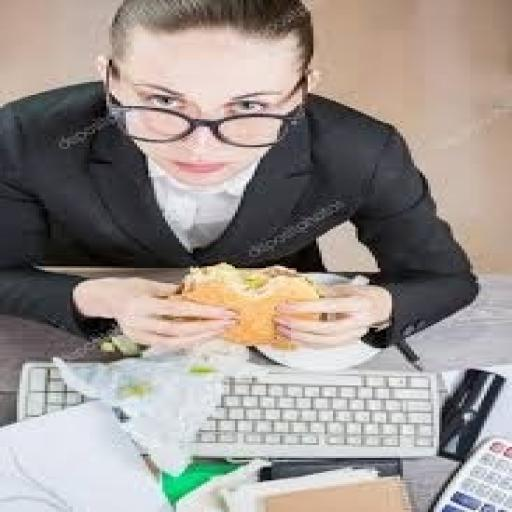eating: (0, 0, 481, 357)
